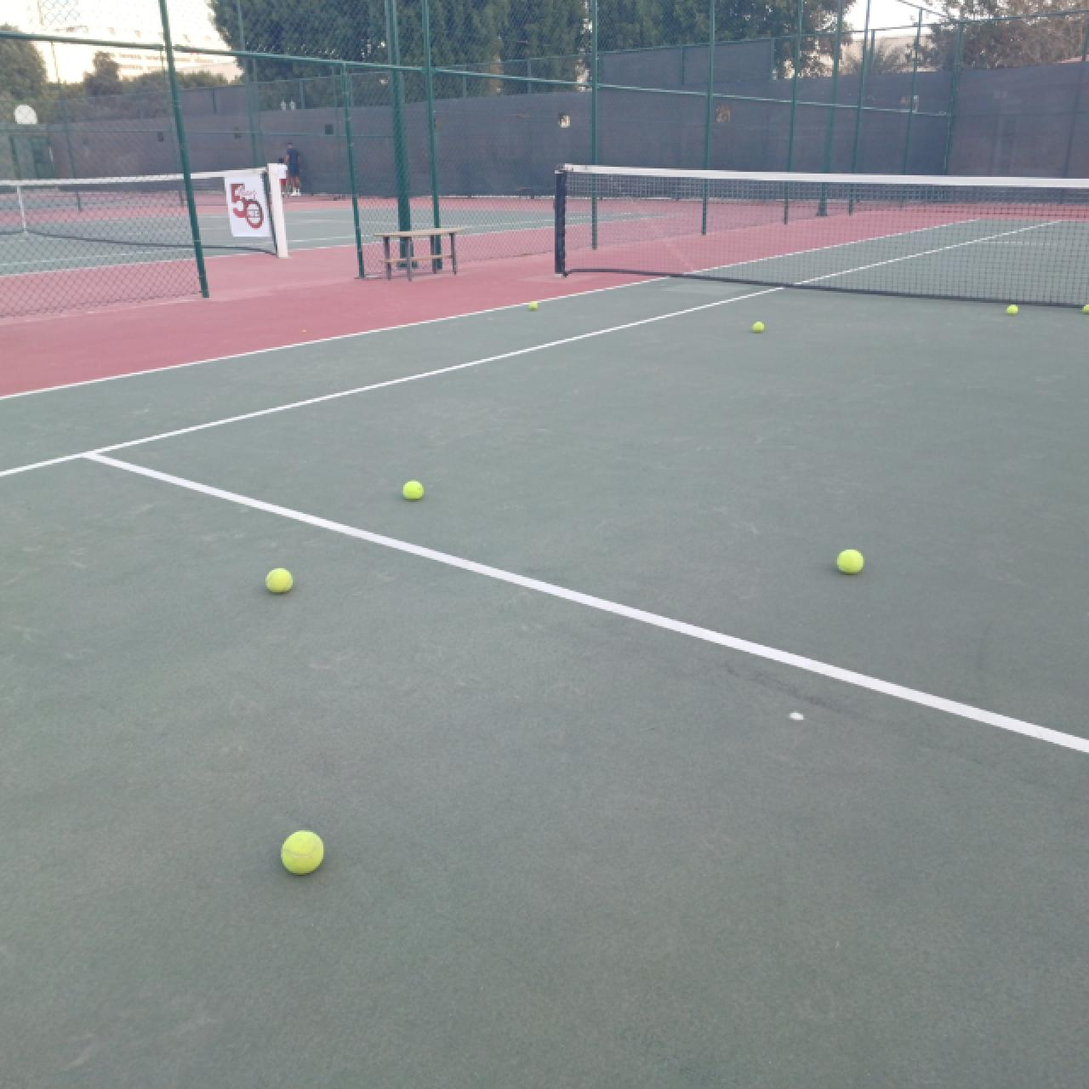tennis-ball: (279, 829, 326, 876), (263, 566, 295, 595), (836, 547, 864, 576), (402, 479, 425, 503), (1005, 303, 1019, 316), (753, 321, 765, 334), (527, 300, 539, 312), (1082, 303, 1089, 316)
